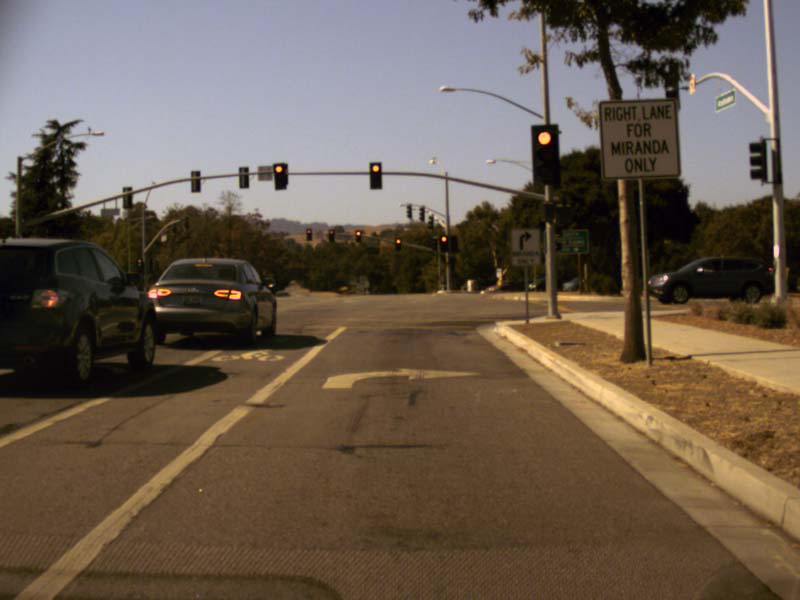Red: (531, 123, 559, 183), (273, 161, 288, 190), (369, 162, 381, 189), (438, 234, 447, 252), (395, 237, 401, 251), (305, 228, 311, 241), (328, 229, 334, 242), (355, 230, 361, 242)
